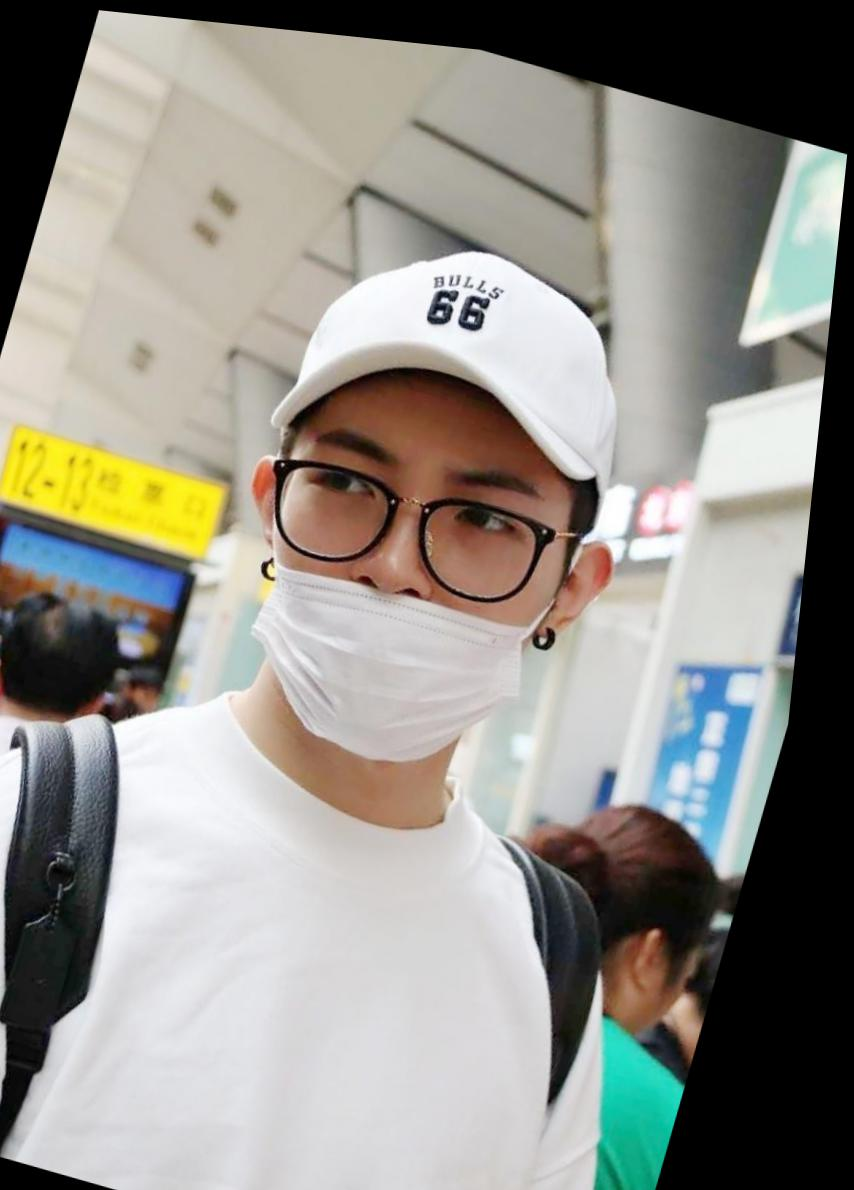WRONG: (223, 395, 612, 783)
